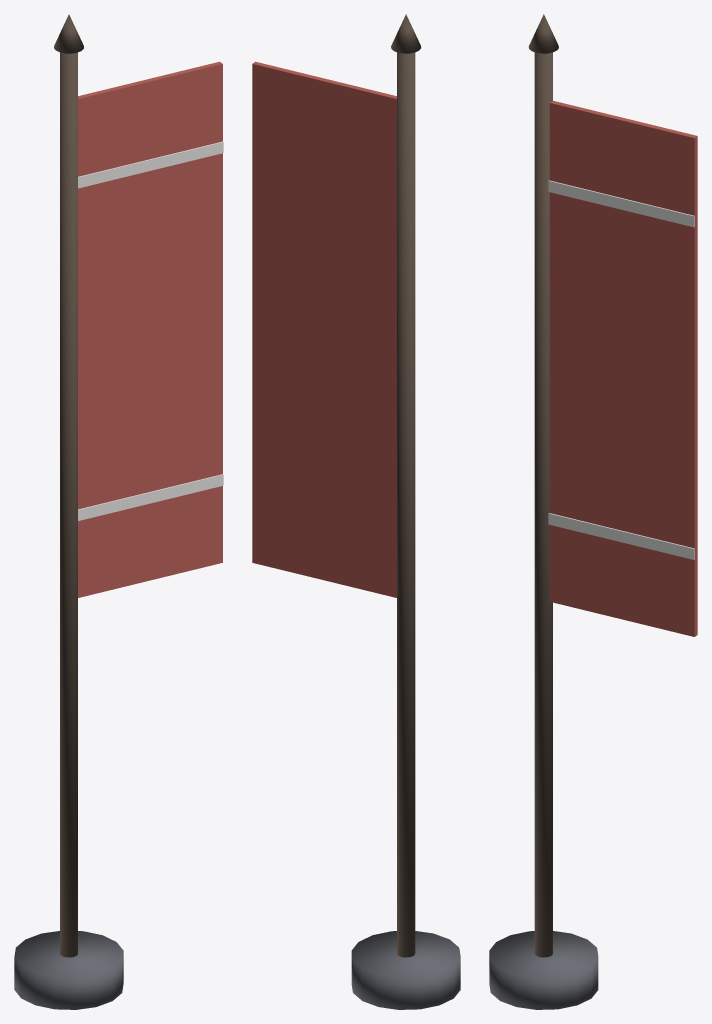
File: prop_tate_nobori_red.glb
The picture shows the model from 3 angles, left to right: view 1: azimuth 30°, elevation 25°; view 2: azimuth 150°, elevation 25°; view 3: azimuth 330°, elevation 25°; orthographic projection.
Visible parts, largest first — view 1: tate_nobori_red; view 2: tate_nobori_red; view 3: tate_nobori_red.
Boxes of the visible parts, x1,y1,x2,y2 form: tate_nobori_red: [14, 14, 223, 1009]; tate_nobori_red: [252, 14, 460, 1009]; tate_nobori_red: [489, 14, 697, 1009].
Bounding box in the file's own units: 0.755 × 3.51 × 0.36.
